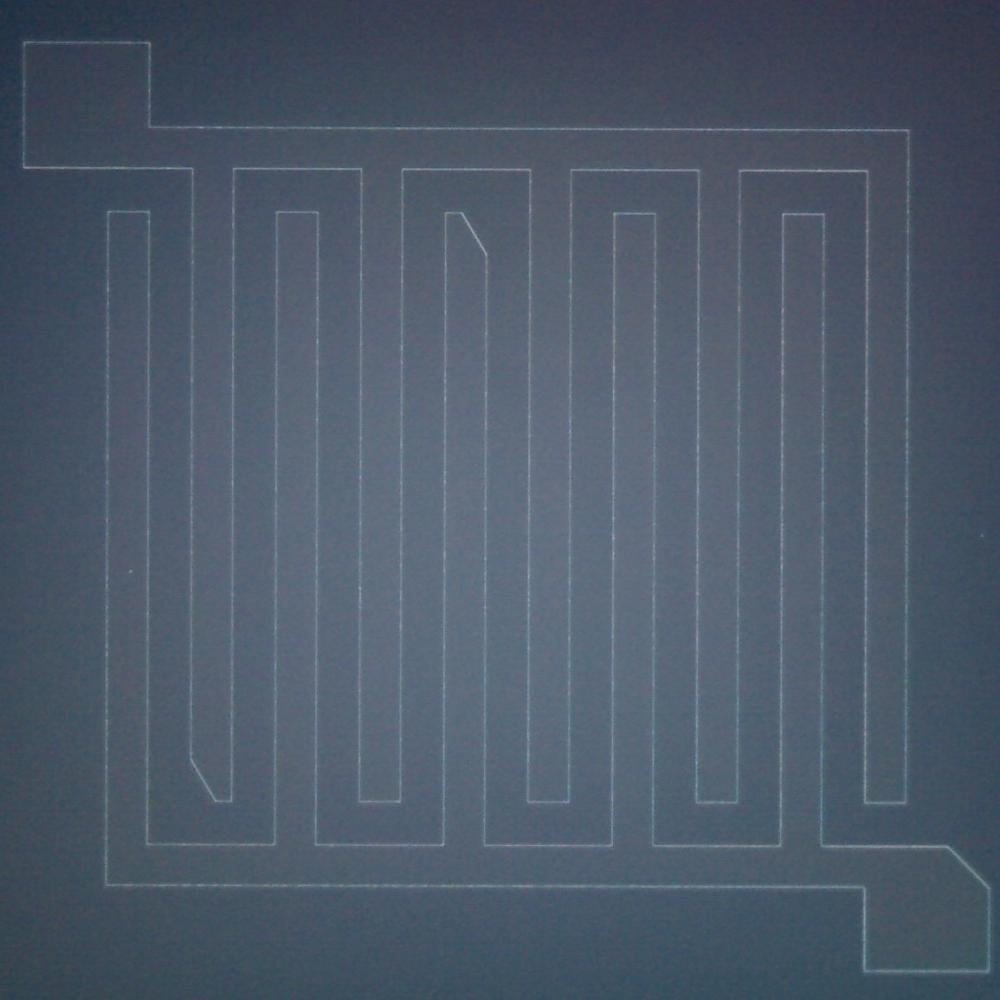dot: (980, 533, 985, 538), (128, 569, 133, 574)
